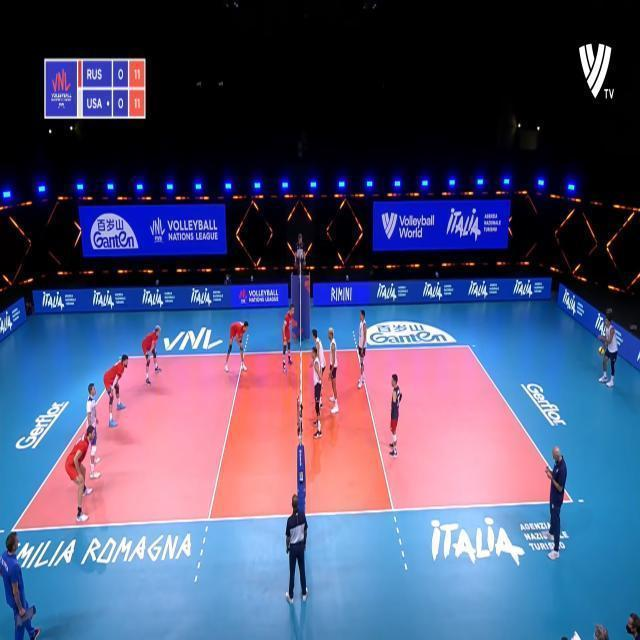volleyball: (598, 346, 605, 354)
